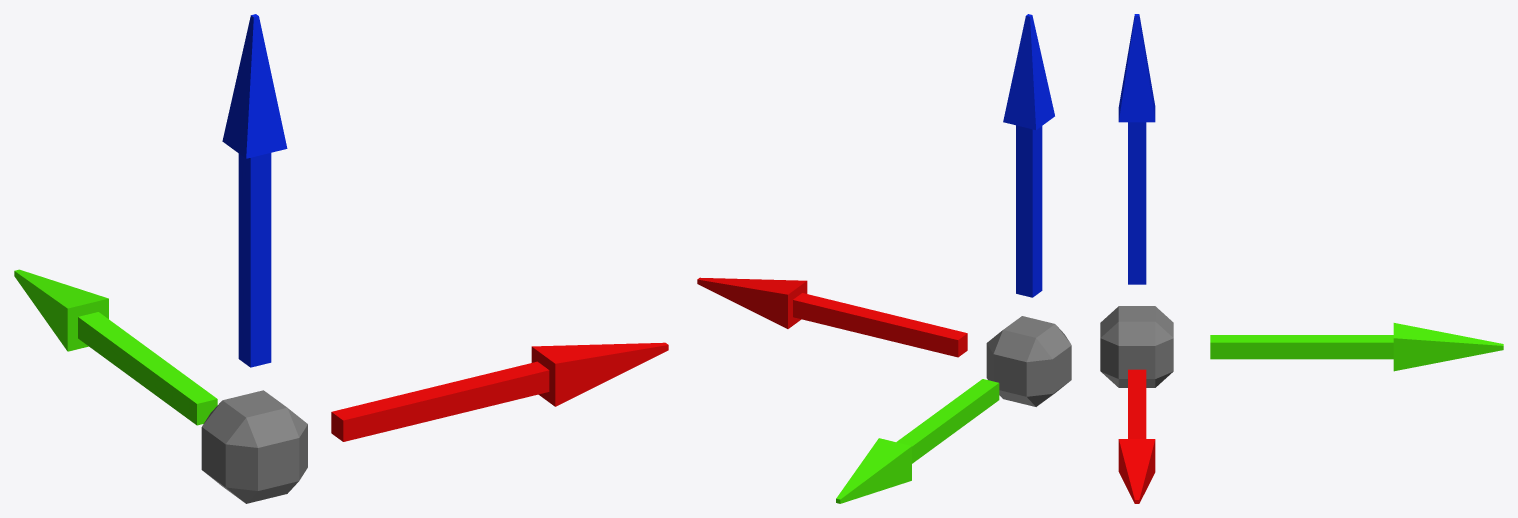
Rendered from axes.obj.
3 views of the same model, side by side, from view 1: azimuth 30°, elevation 25°; view 2: azimuth 150°, elevation 25°; view 3: azimuth 270°, elevation 25° (orthographic). The views are drawn at different scales.
Visible parts, largest first — view 1: Cube_Cube.001; view 2: Cube_Cube.001; view 3: Cube_Cube.001.
Part boxes in pixels (<box>): Cube_Cube.001: <box>14,14,668,503</box>; Cube_Cube.001: <box>697,14,1071,503</box>; Cube_Cube.001: <box>1100,14,1503,503</box>.
Bounding box in the file's own units: 1.1 × 1.1 × 1.1.
